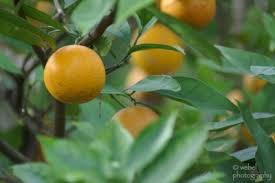orange: (43, 41, 109, 108), (130, 25, 186, 79), (110, 103, 168, 141), (242, 68, 268, 98)
